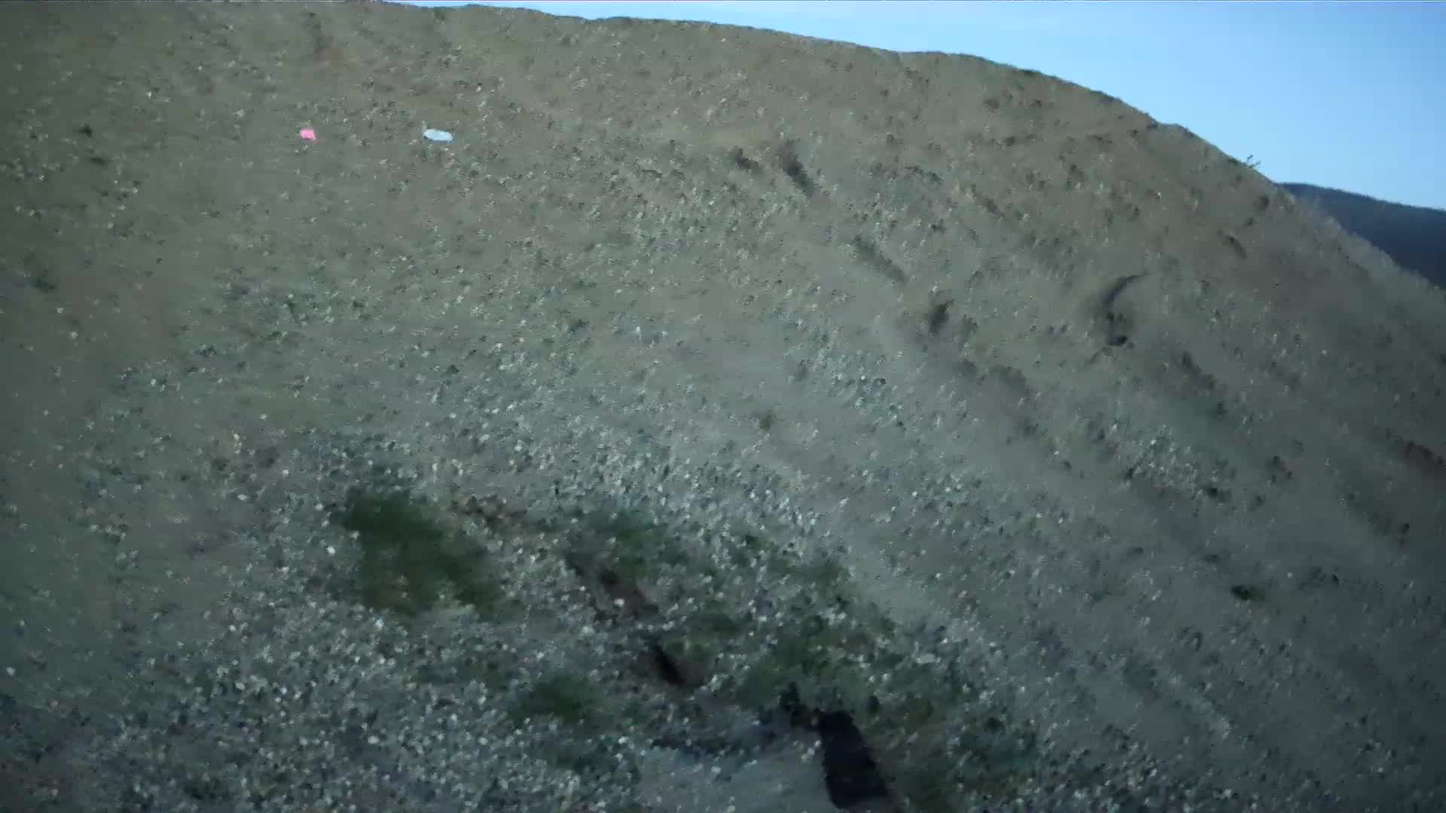Target: (423, 129, 452, 142)
